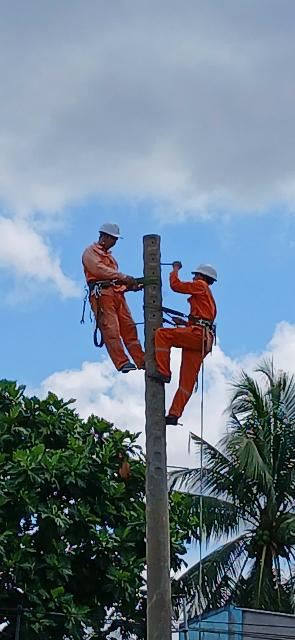gloves: (111, 271, 139, 287)
harness: (173, 310, 221, 342), (73, 274, 136, 296)
helmet: (93, 207, 131, 245), (191, 259, 231, 294)
shoes: (147, 368, 175, 387), (115, 360, 136, 379), (159, 412, 185, 426)
